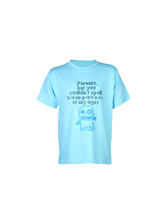clothoes: (35, 57, 136, 167)
